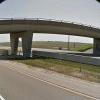Bridge: (0, 13, 97, 45)
